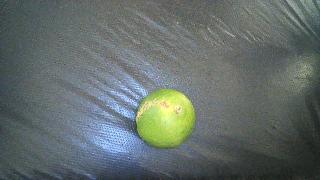DESECHO: (136, 89, 196, 148)
